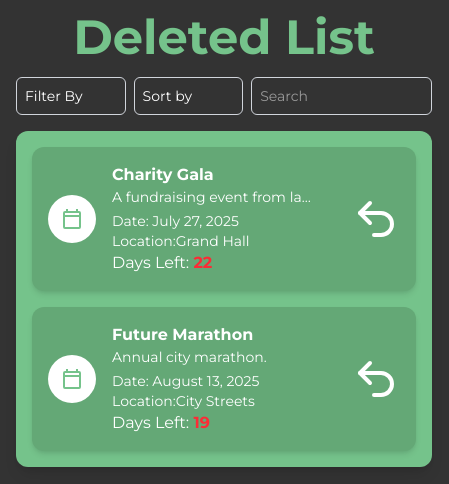
Test case: DeletedEventList › restores an event when the restore button is clicked
The width and height of the screenshot is (449, 484).
Expected: the text "Charity Gala" is shown, [112, 165, 214, 184]
Click the button named "Restore Charity Gala".
click(376, 219)  # box [352, 195, 400, 243]
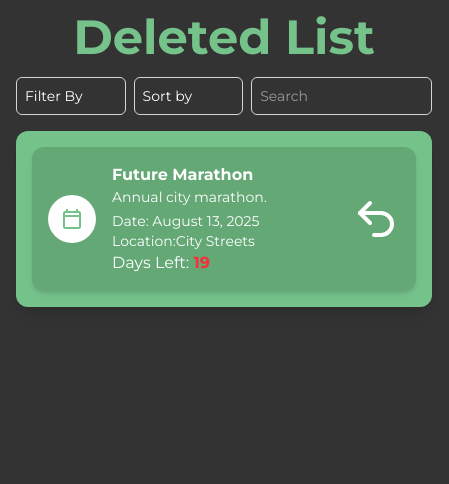
Now the text "Charity Gala" is gone
